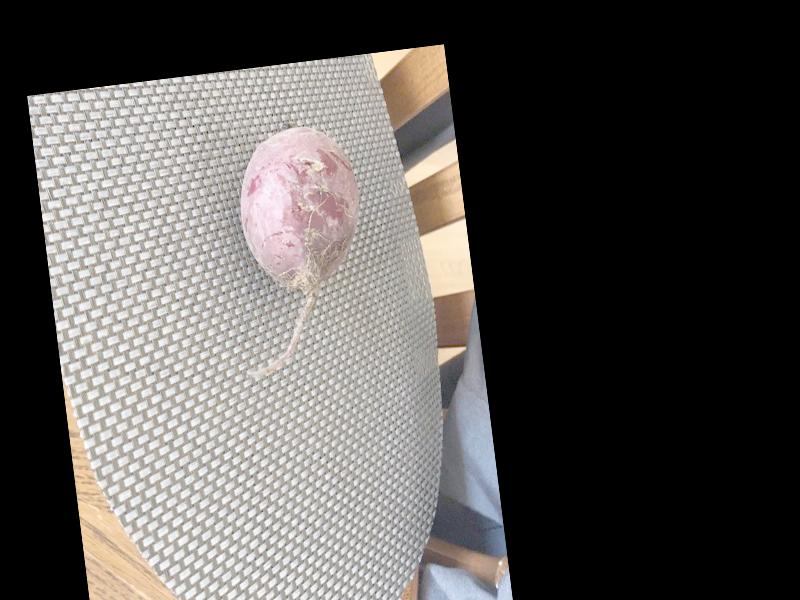Beet: (218, 123, 380, 379)
